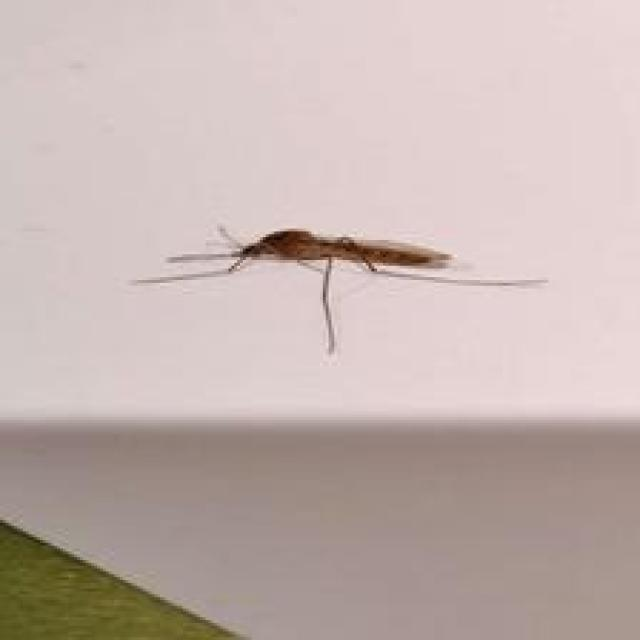Culex: (132, 221, 548, 356)
